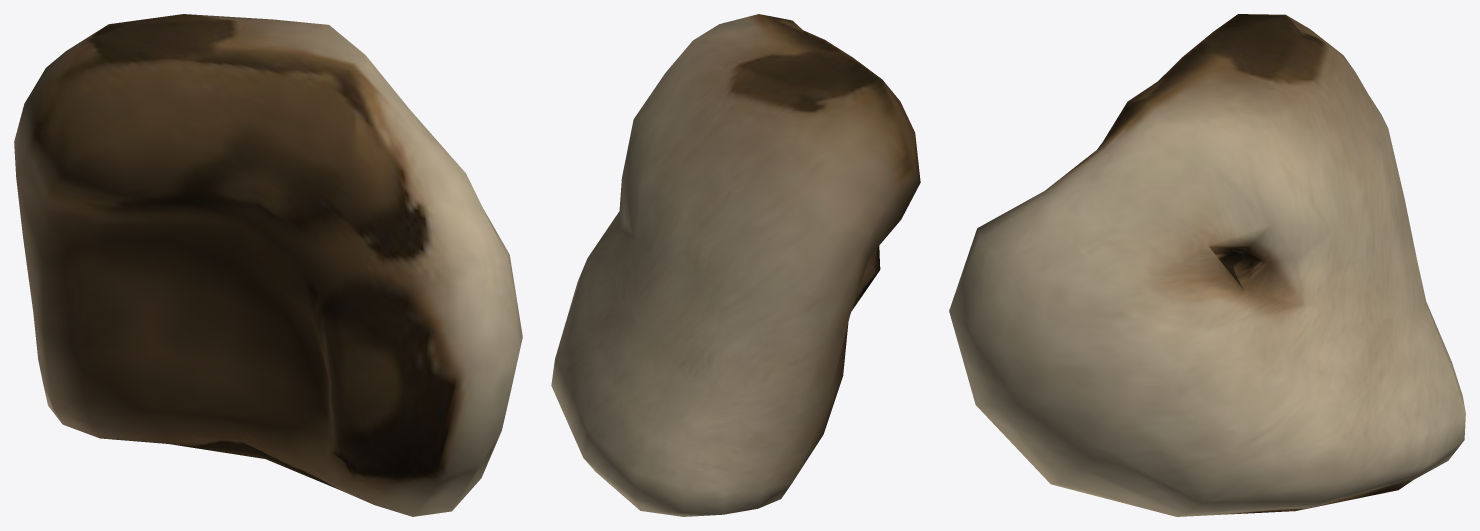
The model's file is Distal_Carpal_I.glb.
The picture shows the model from 3 angles, left to right: view 1: azimuth 30°, elevation 25°; view 2: azimuth 150°, elevation 25°; view 3: azimuth 270°, elevation 25°; orthographic projection. The views are drawn at different scales.
Visible parts, largest first — view 1: Distal_Carpal_I_Right1:Group38015; view 2: Distal_Carpal_I_Right1:Group38015; view 3: Distal_Carpal_I_Right1:Group38015.
Part boxes in pixels (x1,y1,x2,y2): Distal_Carpal_I_Right1:Group38015: (14,14,522,516); Distal_Carpal_I_Right1:Group38015: (551,14,920,516); Distal_Carpal_I_Right1:Group38015: (949,14,1465,516).
Bounding box in the file's own units: 6.1 × 6.54 × 7.87.
Materials: 1 (1 with a texture image).
